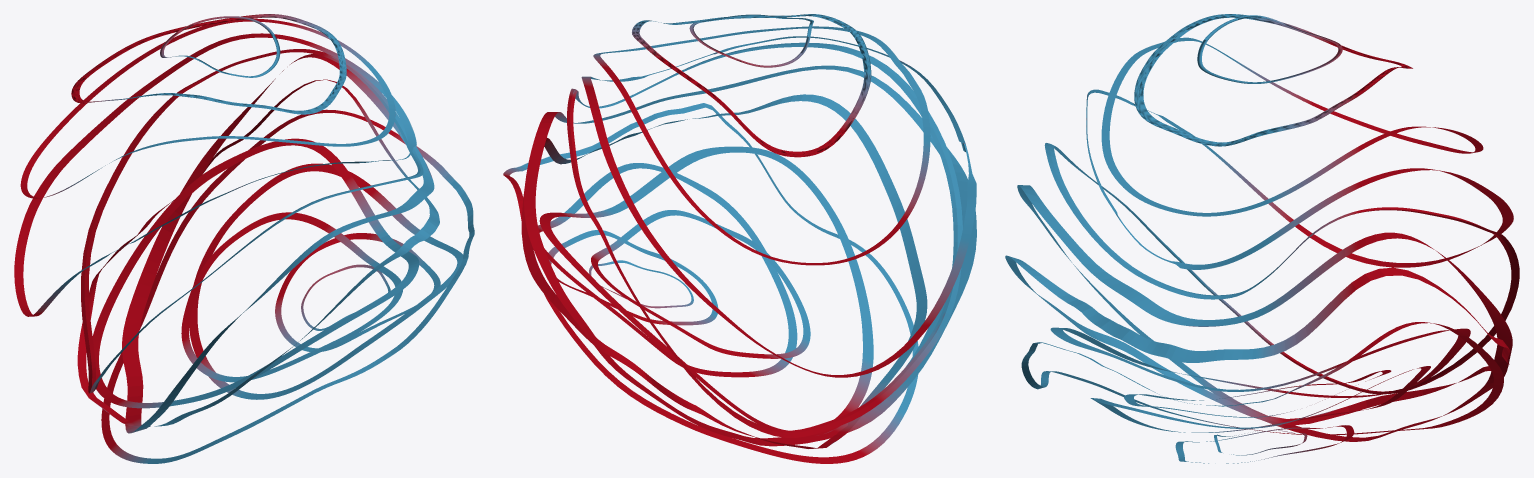
The model's file is TextureFixed.glb.
3 views of the same model, side by side, from view 1: azimuth 30°, elevation 25°; view 2: azimuth 150°, elevation 25°; view 3: azimuth 270°, elevation 25° (orthographic). The views are drawn at different scales.
Parts seen in each view (by area): view 1: 7.001; view 2: 7.001; view 3: 7.001.
Boxes of the visible parts, x1=… form: 7.001: x1=14, y1=14, x2=474, y2=463; 7.001: x1=503, y1=14, x2=976, y2=463; 7.001: x1=1005, y1=14, x2=1519, y2=463.
Bounding box in the file's own units: 1.9 × 1.69 × 1.73.
1 material, 1 textured.
